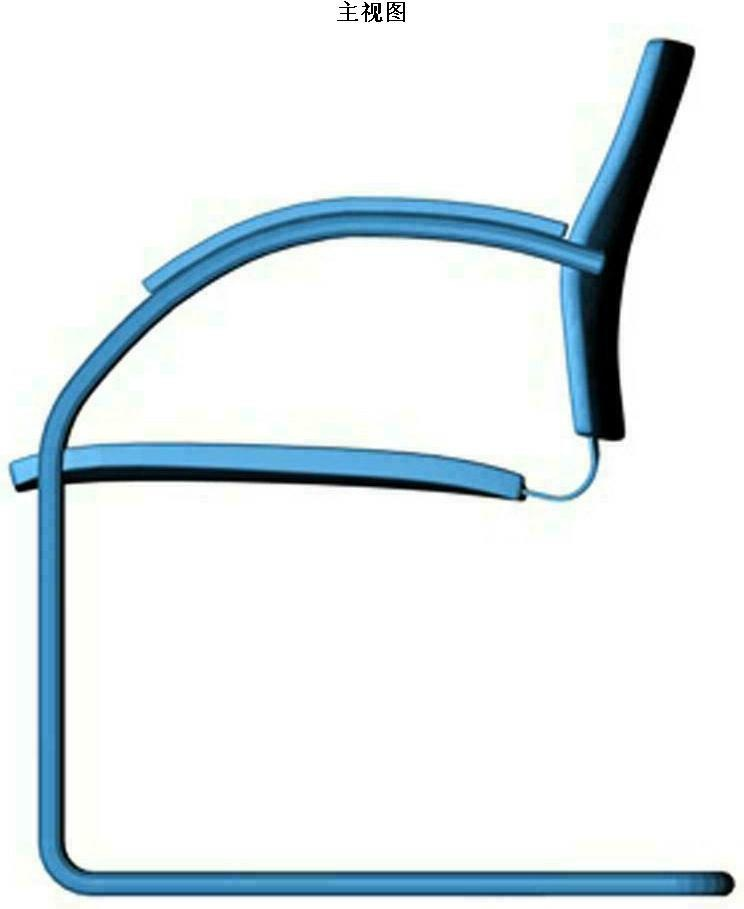obstacle: (11, 39, 732, 895)
